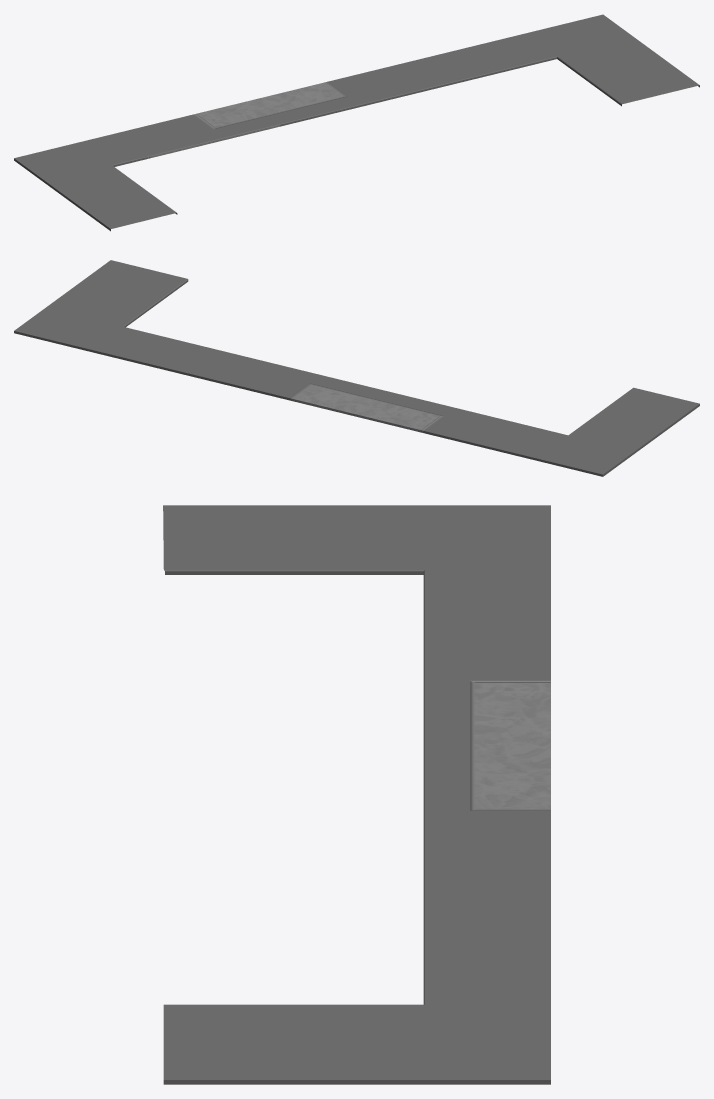
The model's file is Plaza2_Curb.fbx.
3 renders of one model, top to bottom at view 1: azimuth 30°, elevation 25°; view 2: azimuth 150°, elevation 25°; view 3: azimuth 270°, elevation 25°, orthographic. The views are drawn at different scales.
Visible parts, largest first — view 1: Plaza2_Curb; view 2: Plaza2_Curb; view 3: Plaza2_Curb.
Part boxes in pixels (x1,y1,x2,y2): Plaza2_Curb: [14, 14, 699, 231]; Plaza2_Curb: [14, 260, 699, 476]; Plaza2_Curb: [163, 505, 550, 1084].
Bounding box in the file's own units: 31777 × 120 × 9059.
Materials: 1 (1 with a texture image).
